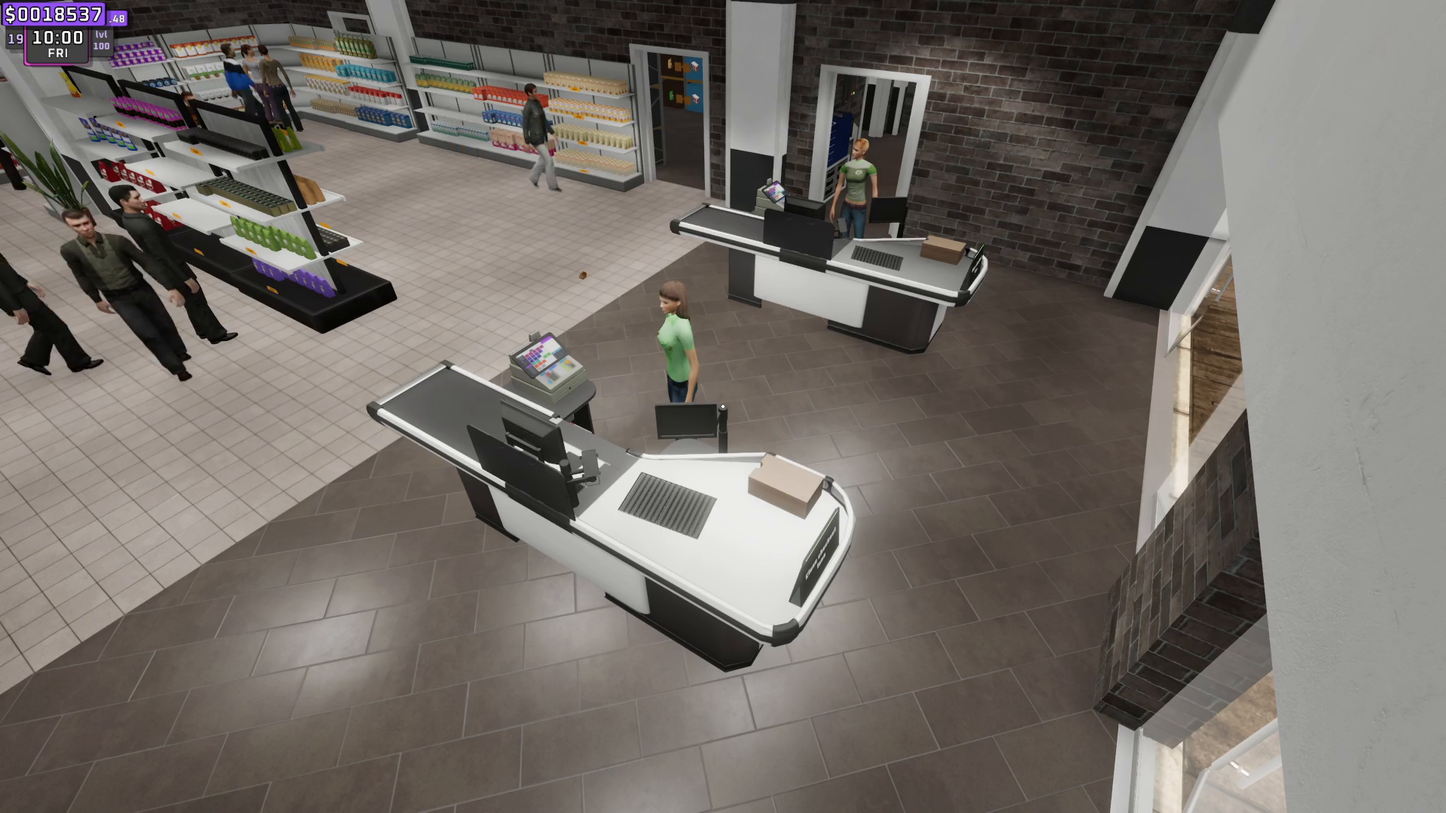Employee: (653, 288, 700, 404), (836, 144, 876, 226)
